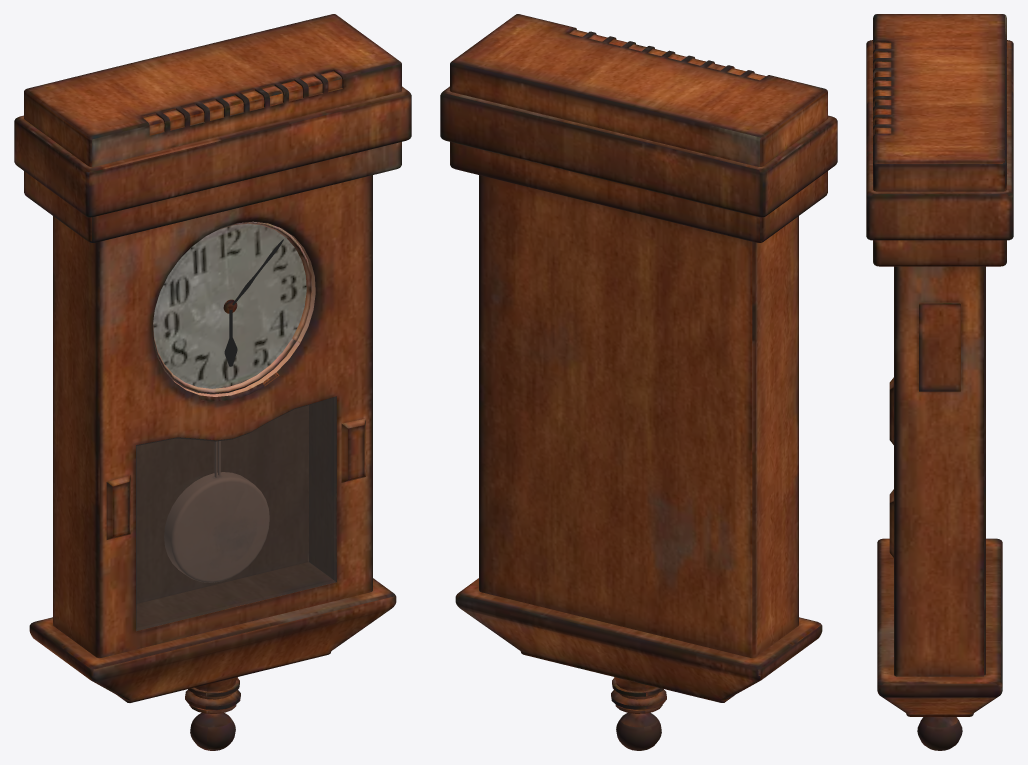
Rendered from vintage_wall_clock.glb.
3 renders of one model, left to right at view 1: azimuth 30°, elevation 25°; view 2: azimuth 150°, elevation 25°; view 3: azimuth 270°, elevation 25°, orthographic.
Visible parts, largest first — view 1: antique, glass, bong; view 2: antique; view 3: antique.
Boxes of the visible parts, x1=… form: antique: x1=14, y1=14, x2=411, y2=750; glass: x1=136, y1=396, x2=336, y2=630; bong: x1=164, y1=441, x2=269, y2=582; antique: x1=440, y1=14, x2=837, y2=750; antique: x1=866, y1=14, x2=1013, y2=750.
Size of the model in its own units: 55.33 by 110 by 22.12.
3 materials, 2 textured.
